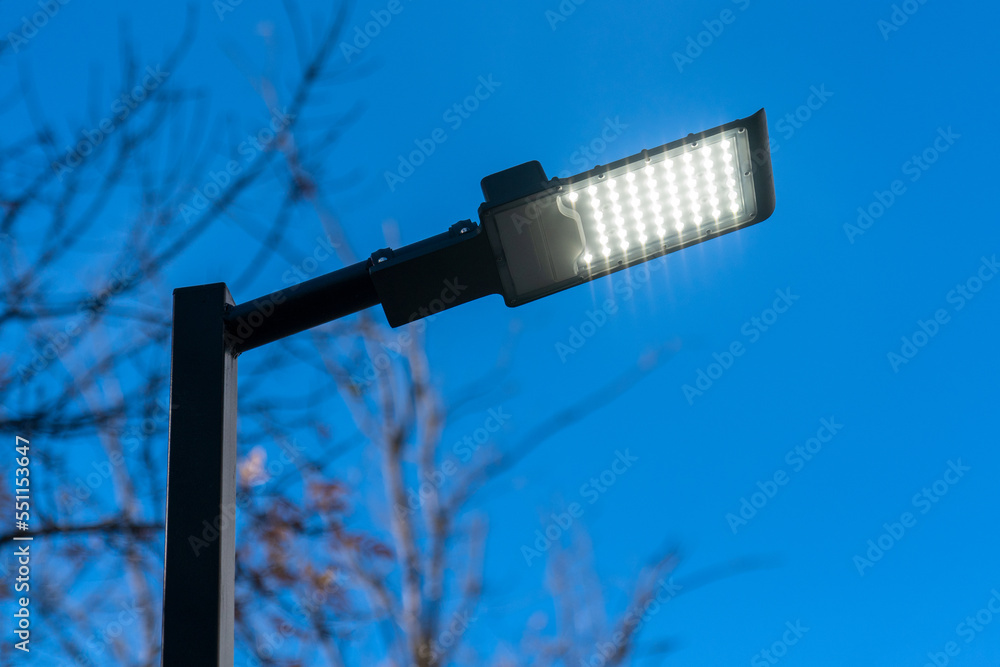Lamp: (77, 108, 825, 667)
